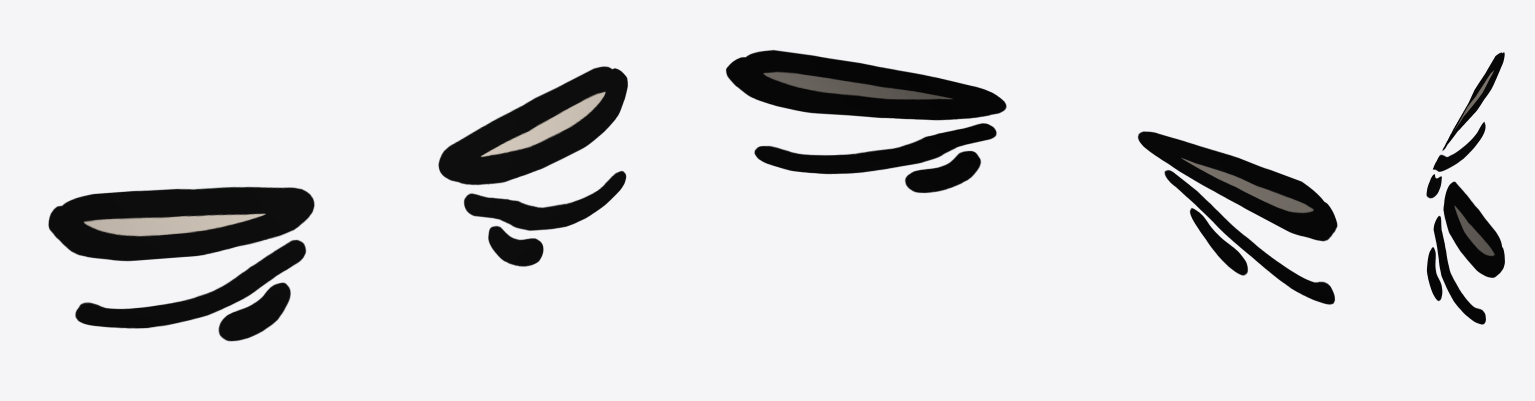
The model's file is Eyes1.glb.
3 renders of one model, left to right at view 1: azimuth 30°, elevation 25°; view 2: azimuth 150°, elevation 25°; view 3: azimuth 270°, elevation 25°, orthographic. The views are drawn at different scales.
Parts seen in each view (by area): view 1: Eyes1; view 2: Eyes1; view 3: Eyes1.
Boxes of the visible parts, x1,y1,x2,y2 form: Eyes1: [48, 66, 627, 341]; Eyes1: [726, 50, 1337, 304]; Eyes1: [1426, 52, 1504, 324].
Bounding box in the file's own units: 0.3086 × 0.1032 × 0.0675.
1 material, 1 textured.
